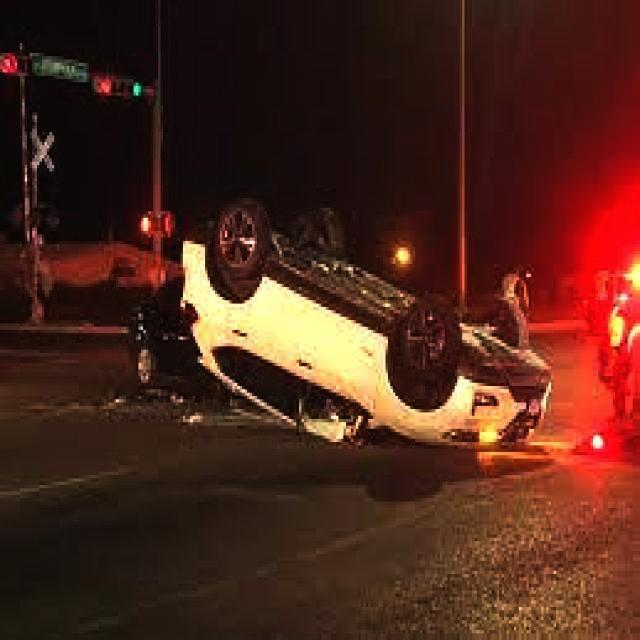Car Flip: (123, 228, 571, 479)
